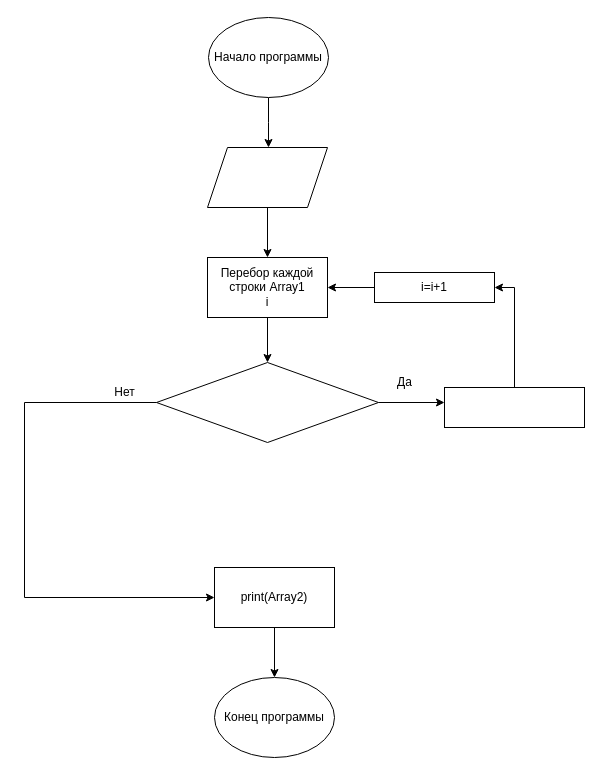
This 602x775 diagram has some shape labels left out. The box of each missing label's shape, as (x1, y1, x2, y2) in pixels:
Array1 Array2: (206, 146, 328, 208)
if len <= 3: (156, 362, 378, 442)
Добавление строки в Array2: (444, 386, 584, 428)
